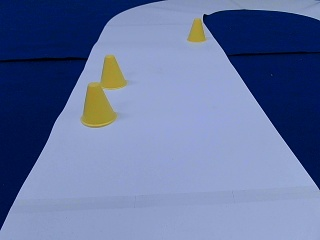cone: (81, 84, 116, 126), (99, 55, 126, 88), (187, 18, 205, 42)
